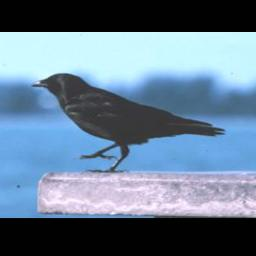Crow: (28, 69, 228, 174)
